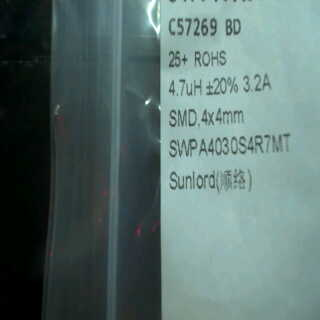4.7uH: (162, 76, 204, 104)
